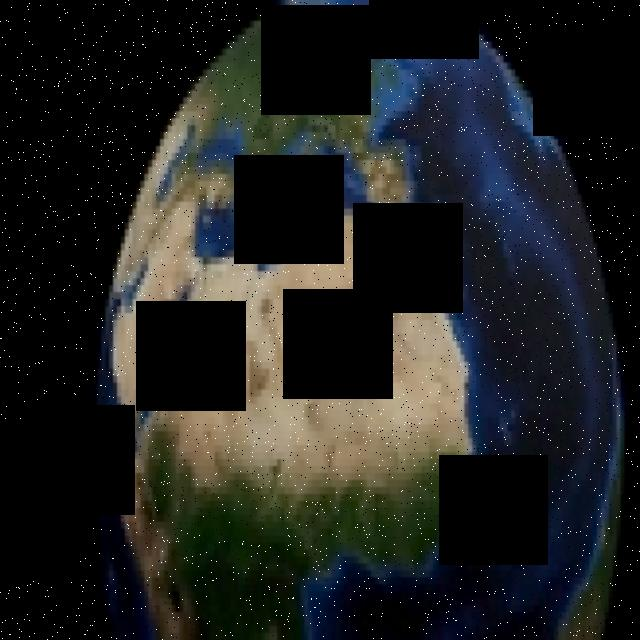Earth: (98, 0, 636, 640)
